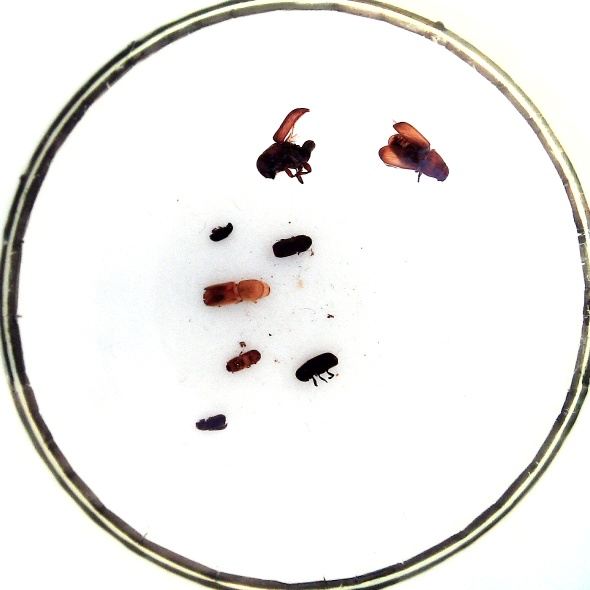acuminatus: (209, 222, 232, 241)
armandi: (295, 352, 338, 380)
boerner: (202, 279, 270, 306)
coleoptera: (225, 349, 259, 371), (195, 414, 227, 430)
leconte: (388, 133, 449, 182), (256, 139, 315, 180)
linnaeus: (273, 234, 312, 257)
